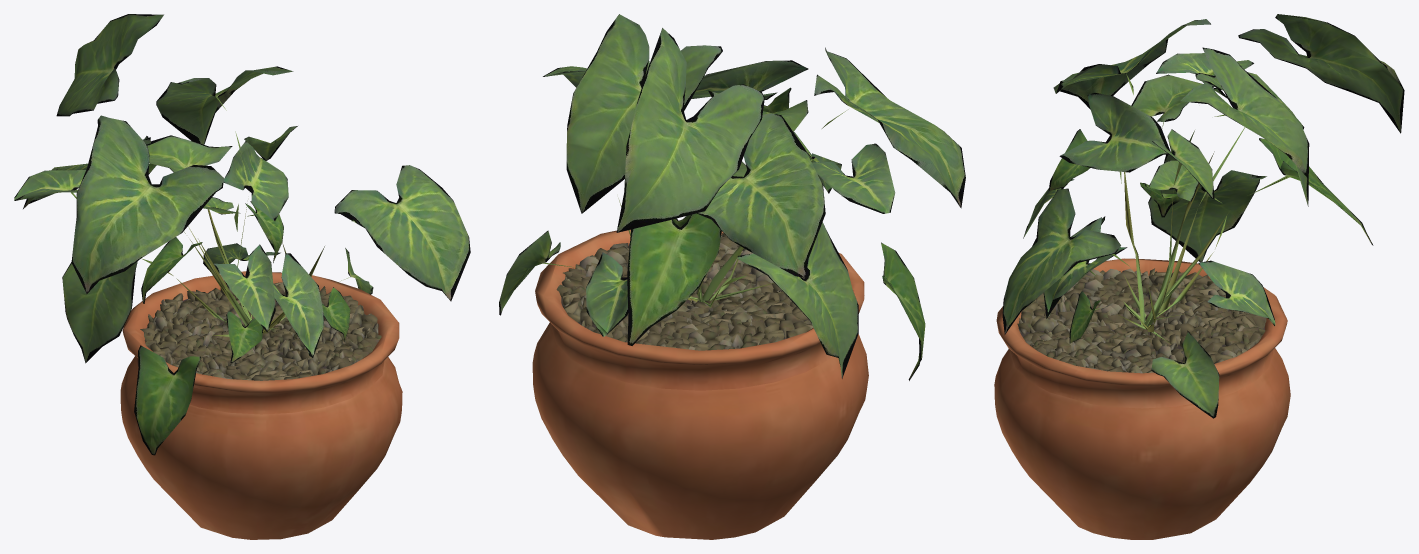
The model's file is plantBig.glb.
3 renders of one model, left to right at view 1: azimuth 30°, elevation 25°; view 2: azimuth 150°, elevation 25°; view 3: azimuth 270°, elevation 25°, orthographic. The views are drawn at different scales.
Parts seen in each view (by area): view 1: potted_plant_02_leaves, potted_plant_02_pot, potted_plant_02_dirt; view 2: potted_plant_02_leaves, potted_plant_02_pot, potted_plant_02_dirt; view 3: potted_plant_02_leaves, potted_plant_02_pot, potted_plant_02_dirt.
Boxes of the visible parts, box(x1,y1,x2,y2) form: potted_plant_02_leaves: box(14, 14, 470, 455); potted_plant_02_pot: box(120, 271, 402, 539); potted_plant_02_dirt: box(140, 282, 381, 380); potted_plant_02_leaves: box(499, 14, 965, 380); potted_plant_02_pot: box(532, 229, 868, 539); potted_plant_02_dirt: box(556, 233, 813, 350); potted_plant_02_leaves: box(1002, 14, 1404, 418); potted_plant_02_pot: box(994, 258, 1290, 539); potted_plant_02_dirt: box(1017, 268, 1266, 373).
Bounding box in the file's own units: 0.6934 × 0.8395 × 0.6545.
Materials: 2 (2 with a texture image).
